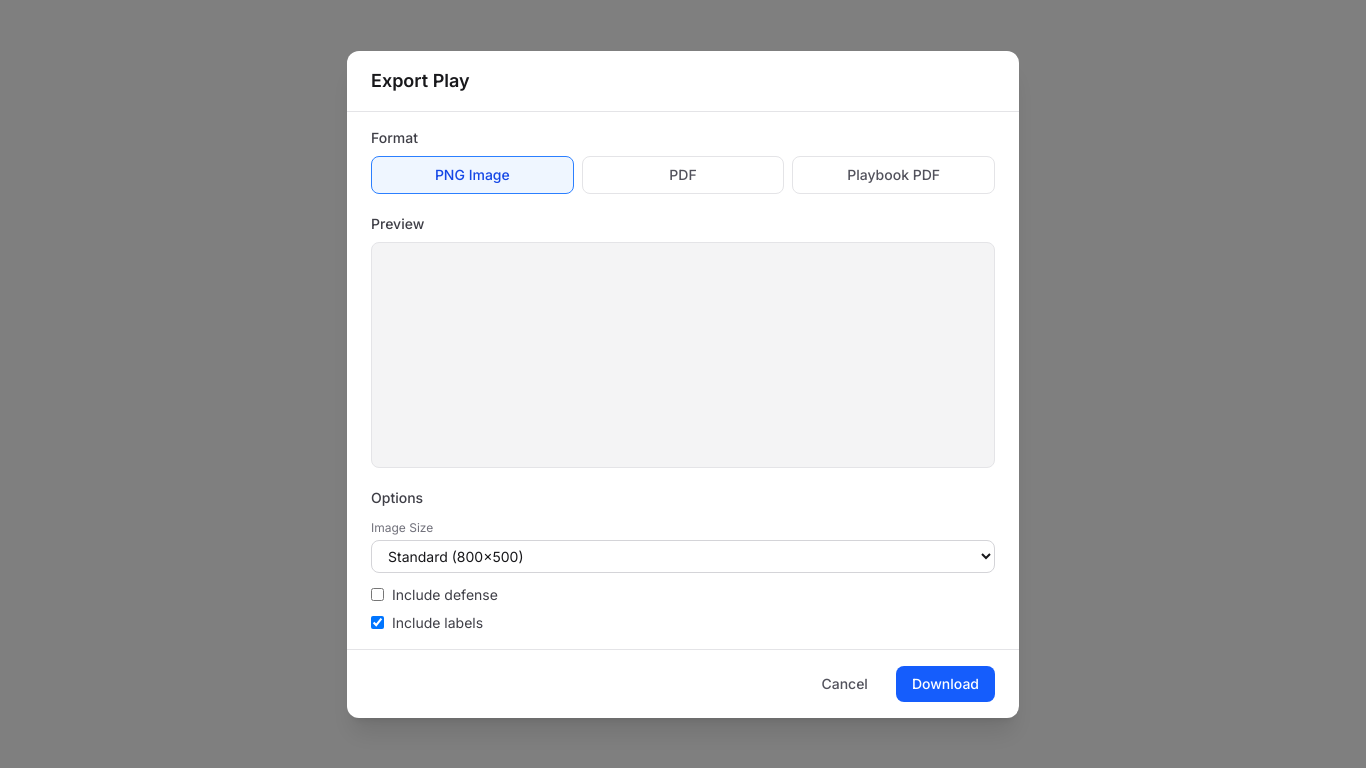
Scenario: ExportDialog › shows playbook info text for playbook-pdf format
Step 1. Click the button with test id "format-playbook-pdf" → (894, 174), box top-left (792, 156), bottom-right (995, 194)
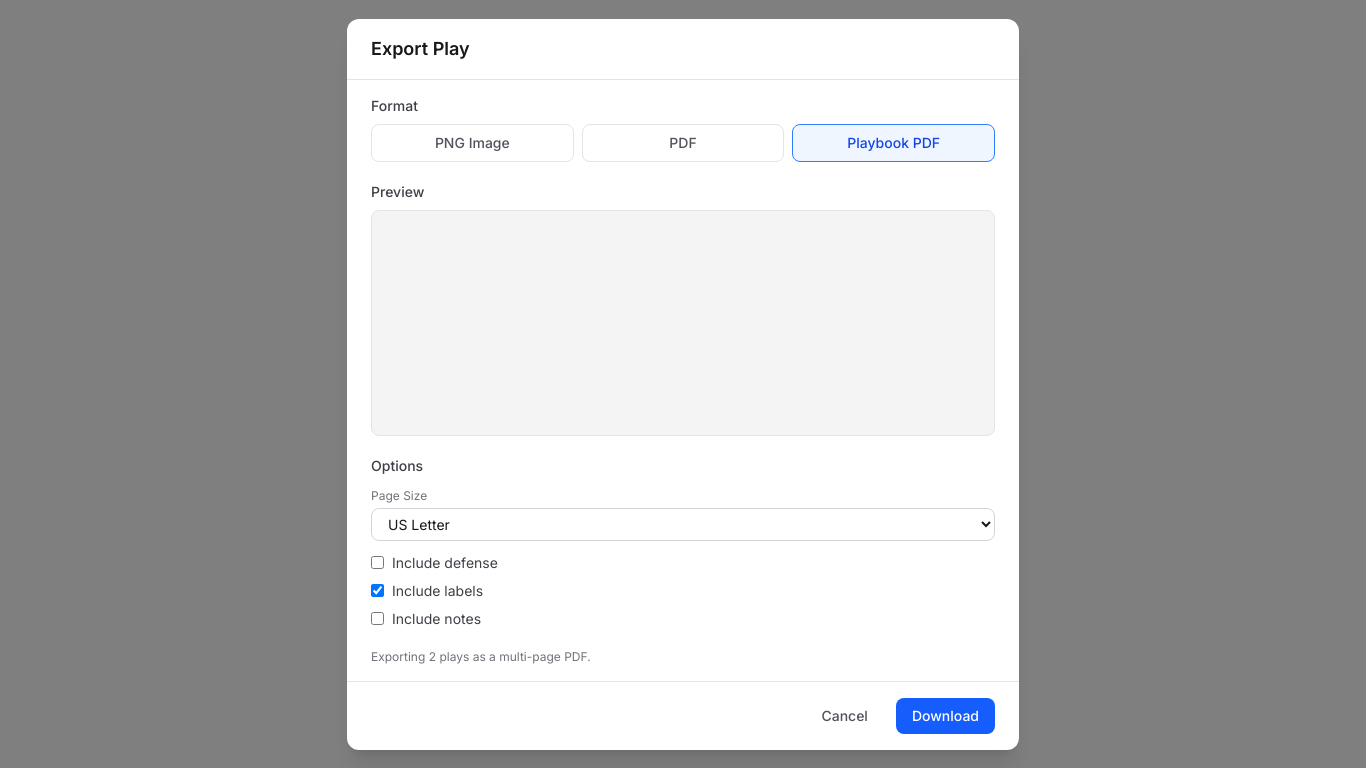
Now the text with test id "playbook-info" shows "2 plays", box top-left (371, 648), bottom-right (591, 664)
